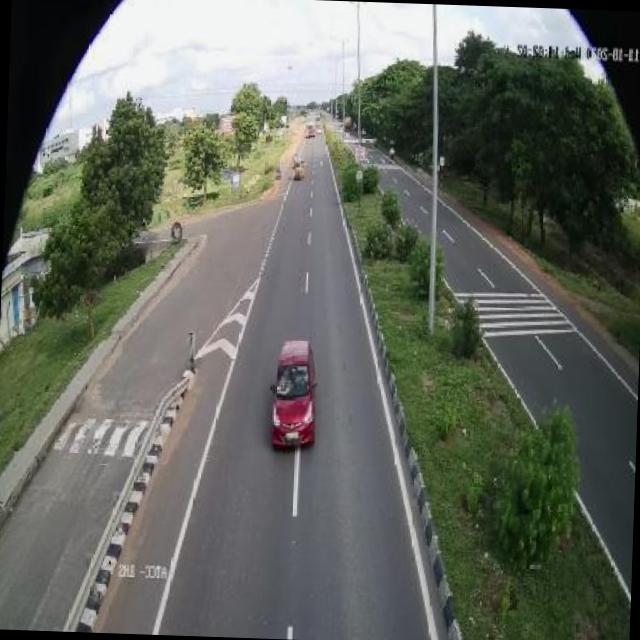car: (265, 332, 318, 454)
